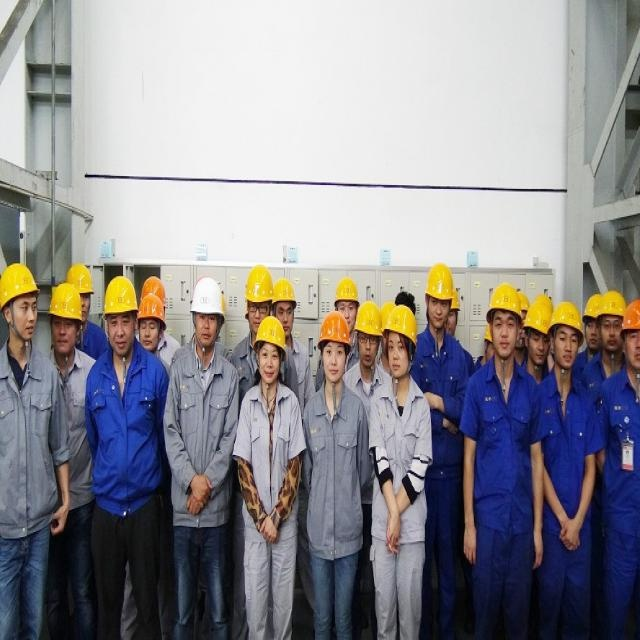Con_Casco: (488, 285, 520, 358), (253, 317, 285, 387), (319, 318, 349, 382)
Sin_Chaleco: (90, 346, 157, 518), (370, 380, 430, 531)
